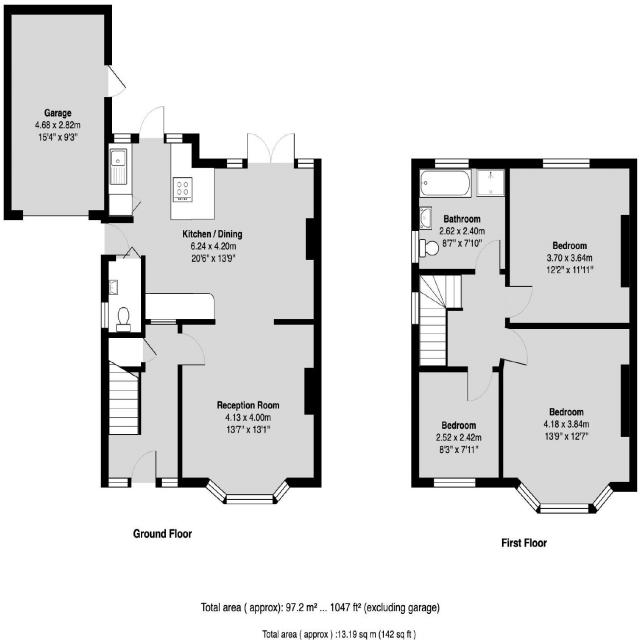DOOR: (500, 325, 529, 367), (138, 105, 165, 144), (101, 222, 131, 257), (130, 450, 157, 488), (474, 239, 502, 275), (505, 285, 534, 319), (177, 332, 206, 366), (466, 366, 493, 402)
DOUBLE DOOR: (241, 125, 298, 167)
ROOM: (100, 105, 322, 506), (498, 323, 638, 516), (504, 158, 638, 329), (411, 366, 503, 488)
WINDOW: (515, 480, 614, 515), (205, 478, 291, 505), (542, 158, 590, 169), (433, 477, 476, 488), (434, 158, 470, 169), (411, 291, 420, 326), (411, 230, 420, 264), (100, 301, 109, 329), (108, 477, 128, 488), (150, 318, 177, 326), (297, 158, 315, 169), (114, 133, 131, 144), (166, 133, 183, 144), (161, 477, 178, 488), (226, 158, 243, 169)
